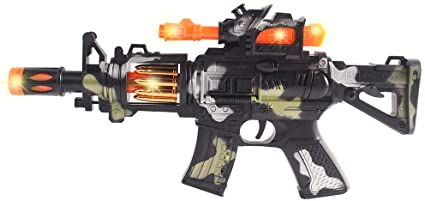Arma Falsa: (5, 4, 425, 198)
